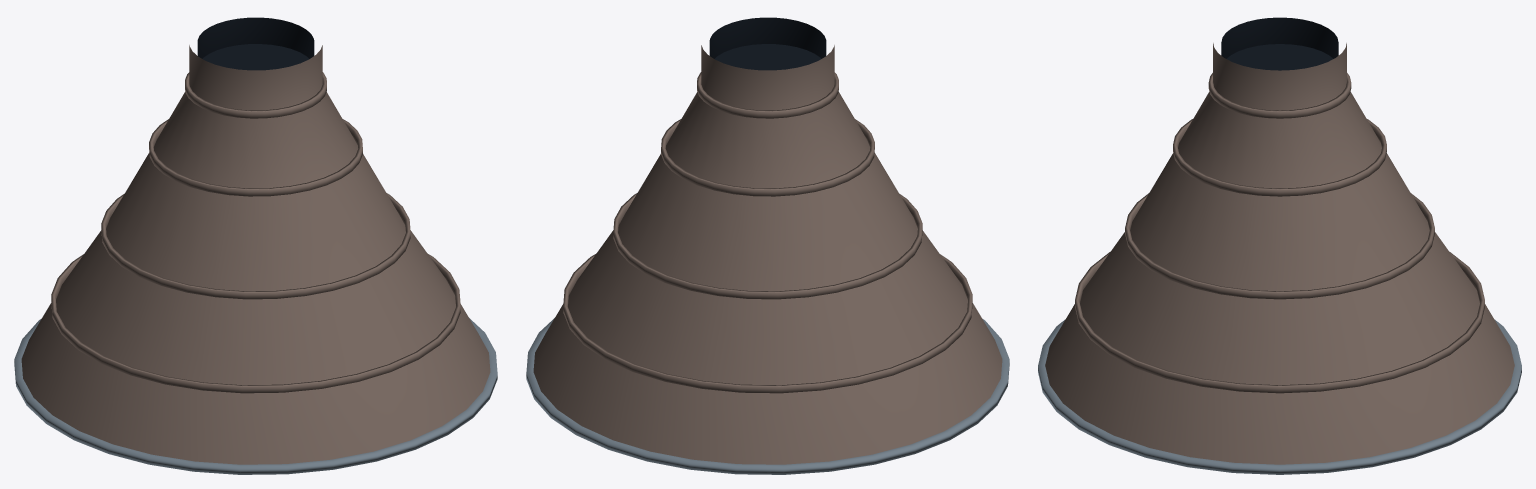
Rendered from orion_esm.rcs_cluster_03.nozzle_01.glb.
The picture shows the model from 3 angles, left to right: view 1: azimuth 30°, elevation 25°; view 2: azimuth 150°, elevation 25°; view 3: azimuth 270°, elevation 25°; orthographic projection.
Visible parts, largest first — view 1: orion_esm.rcs_cluster_03.nozzle_01.bell.mesh_Heat-stained_al, orion_esm.rcs_cluster_03.nozzle_01.bell.mesh_Machined_steel, orion_esm.rcs_cluster_03.nozzle_01.bell.mesh_Shadowed_interi; view 2: orion_esm.rcs_cluster_03.nozzle_01.bell.mesh_Heat-stained_al, orion_esm.rcs_cluster_03.nozzle_01.bell.mesh_Machined_steel, orion_esm.rcs_cluster_03.nozzle_01.bell.mesh_Shadowed_interi; view 3: orion_esm.rcs_cluster_03.nozzle_01.bell.mesh_Heat-stained_al, orion_esm.rcs_cluster_03.nozzle_01.bell.mesh_Machined_steel, orion_esm.rcs_cluster_03.nozzle_01.bell.mesh_Shadowed_interi.
Boxes of the visible parts, x1,y1,x2,y2 form: orion_esm.rcs_cluster_03.nozzle_01.bell.mesh_Heat-stained_al: [21, 45, 490, 464]; orion_esm.rcs_cluster_03.nozzle_01.bell.mesh_Machined_steel: [14, 318, 497, 474]; orion_esm.rcs_cluster_03.nozzle_01.bell.mesh_Shadowed_interi: [197, 17, 314, 70]; orion_esm.rcs_cluster_03.nozzle_01.bell.mesh_Heat-stained_al: [533, 45, 1002, 464]; orion_esm.rcs_cluster_03.nozzle_01.bell.mesh_Machined_steel: [526, 318, 1009, 474]; orion_esm.rcs_cluster_03.nozzle_01.bell.mesh_Shadowed_interi: [709, 17, 826, 70]; orion_esm.rcs_cluster_03.nozzle_01.bell.mesh_Heat-stained_al: [1045, 43, 1514, 464]; orion_esm.rcs_cluster_03.nozzle_01.bell.mesh_Machined_steel: [1038, 319, 1521, 474]; orion_esm.rcs_cluster_03.nozzle_01.bell.mesh_Shadowed_interi: [1221, 17, 1338, 70].
Bounding box in the file's own units: 0.1194 × 0.09 × 0.1194.
